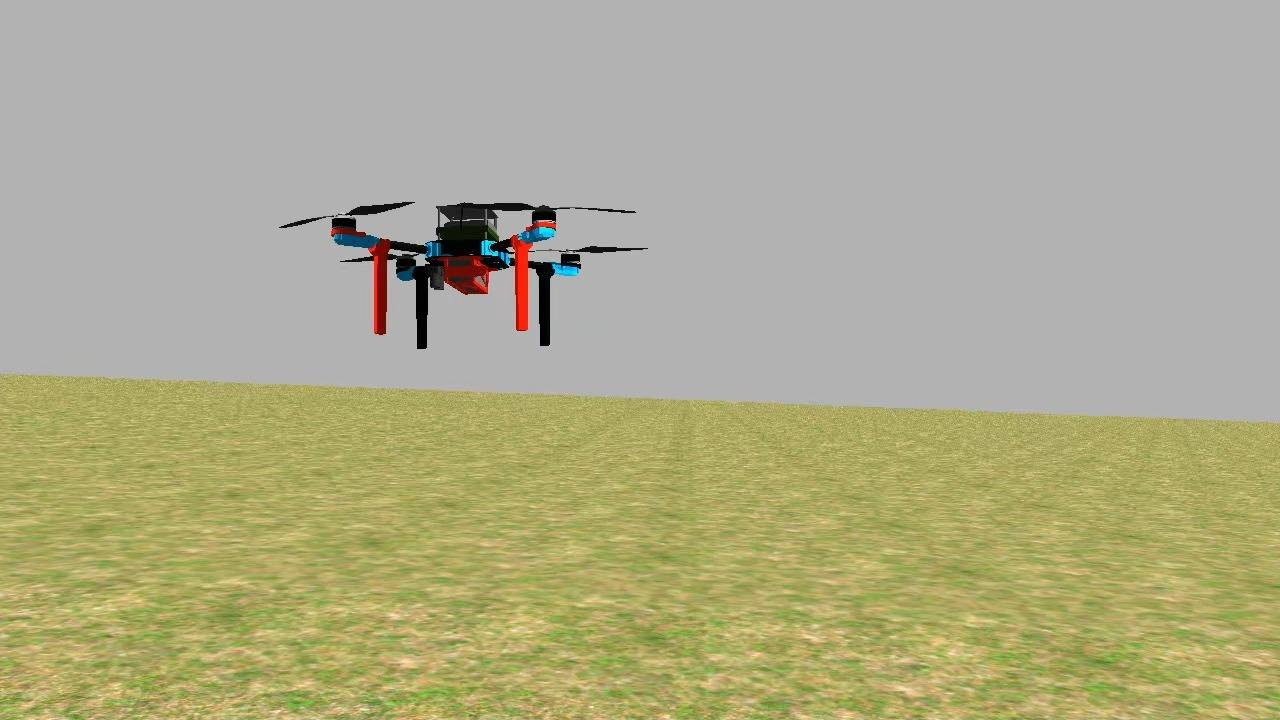UAV: (326, 186, 596, 350)
